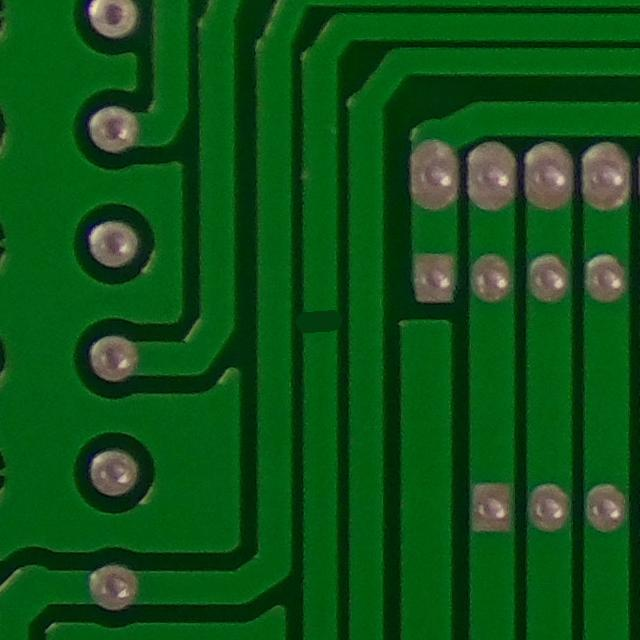open_circuit: (289, 291, 352, 349)
